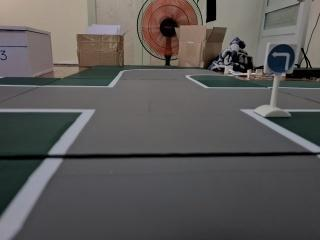left: (266, 43, 297, 75)
